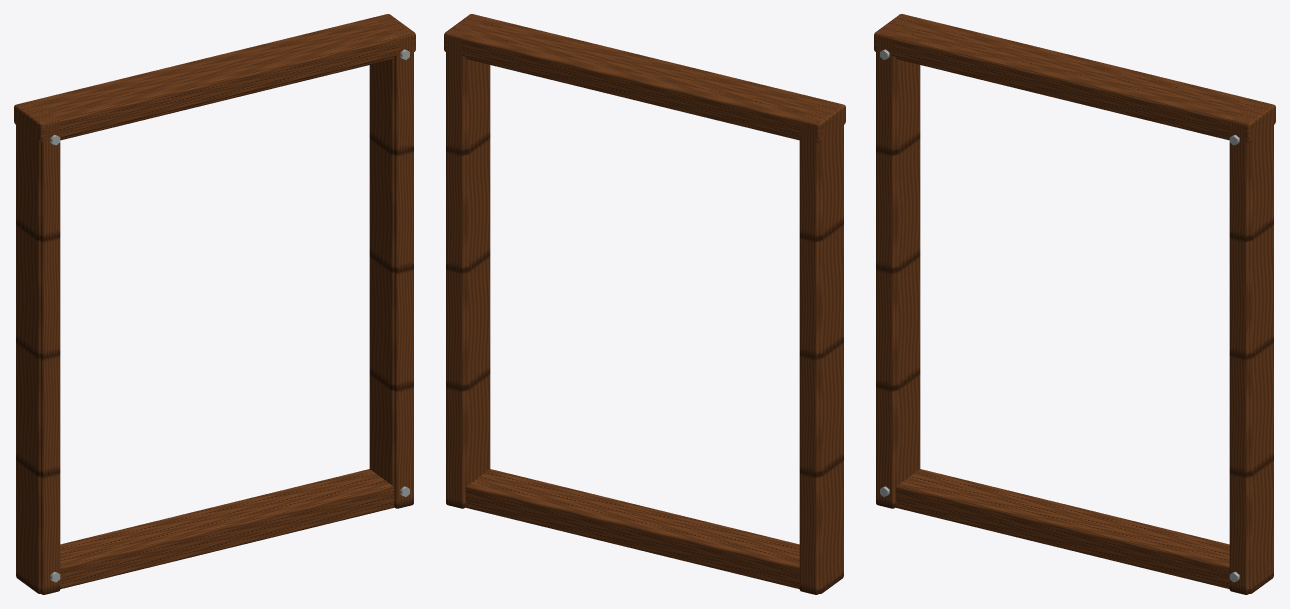
File: prehistoric-survivor-settlement-open-pole-wall-dc0a1e96__23171.glb
The picture shows the model from 3 angles, left to right: view 1: azimuth 30°, elevation 25°; view 2: azimuth 150°, elevation 25°; view 3: azimuth 330°, elevation 25°; orthographic projection.
Visible parts, largest first — view 1: open-pole-wall; view 2: open-pole-wall; view 3: open-pole-wall.
Boxes of the visible parts, x1=… form: open-pole-wall: x1=14, y1=14, x2=415, y2=594; open-pole-wall: x1=444, y1=14, x2=845, y2=594; open-pole-wall: x1=874, y1=14, x2=1275, y2=594.
Bounding box in the file's own units: 2 × 2.4 × 0.2774.
Materials: 2 (1 with a texture image).
